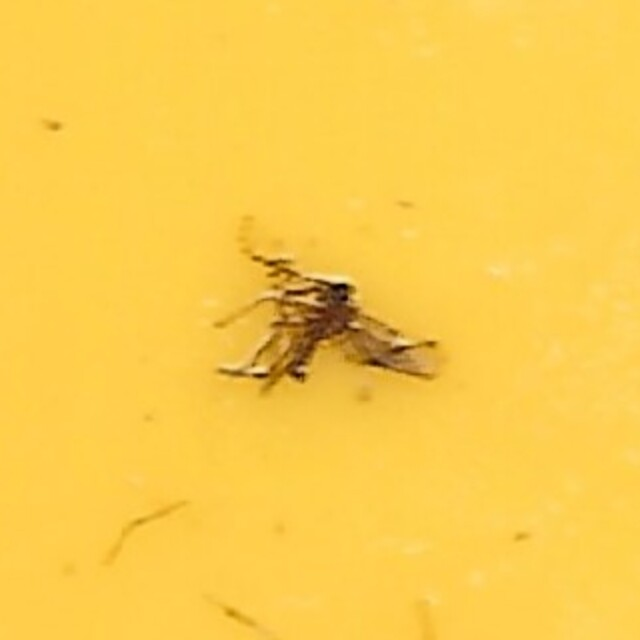Nematocera: (200, 213, 440, 427)
